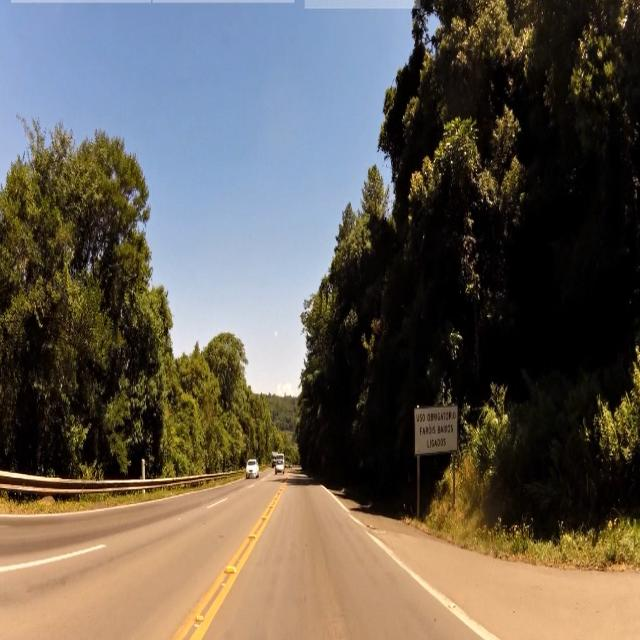E-5: (413, 410, 457, 455)
